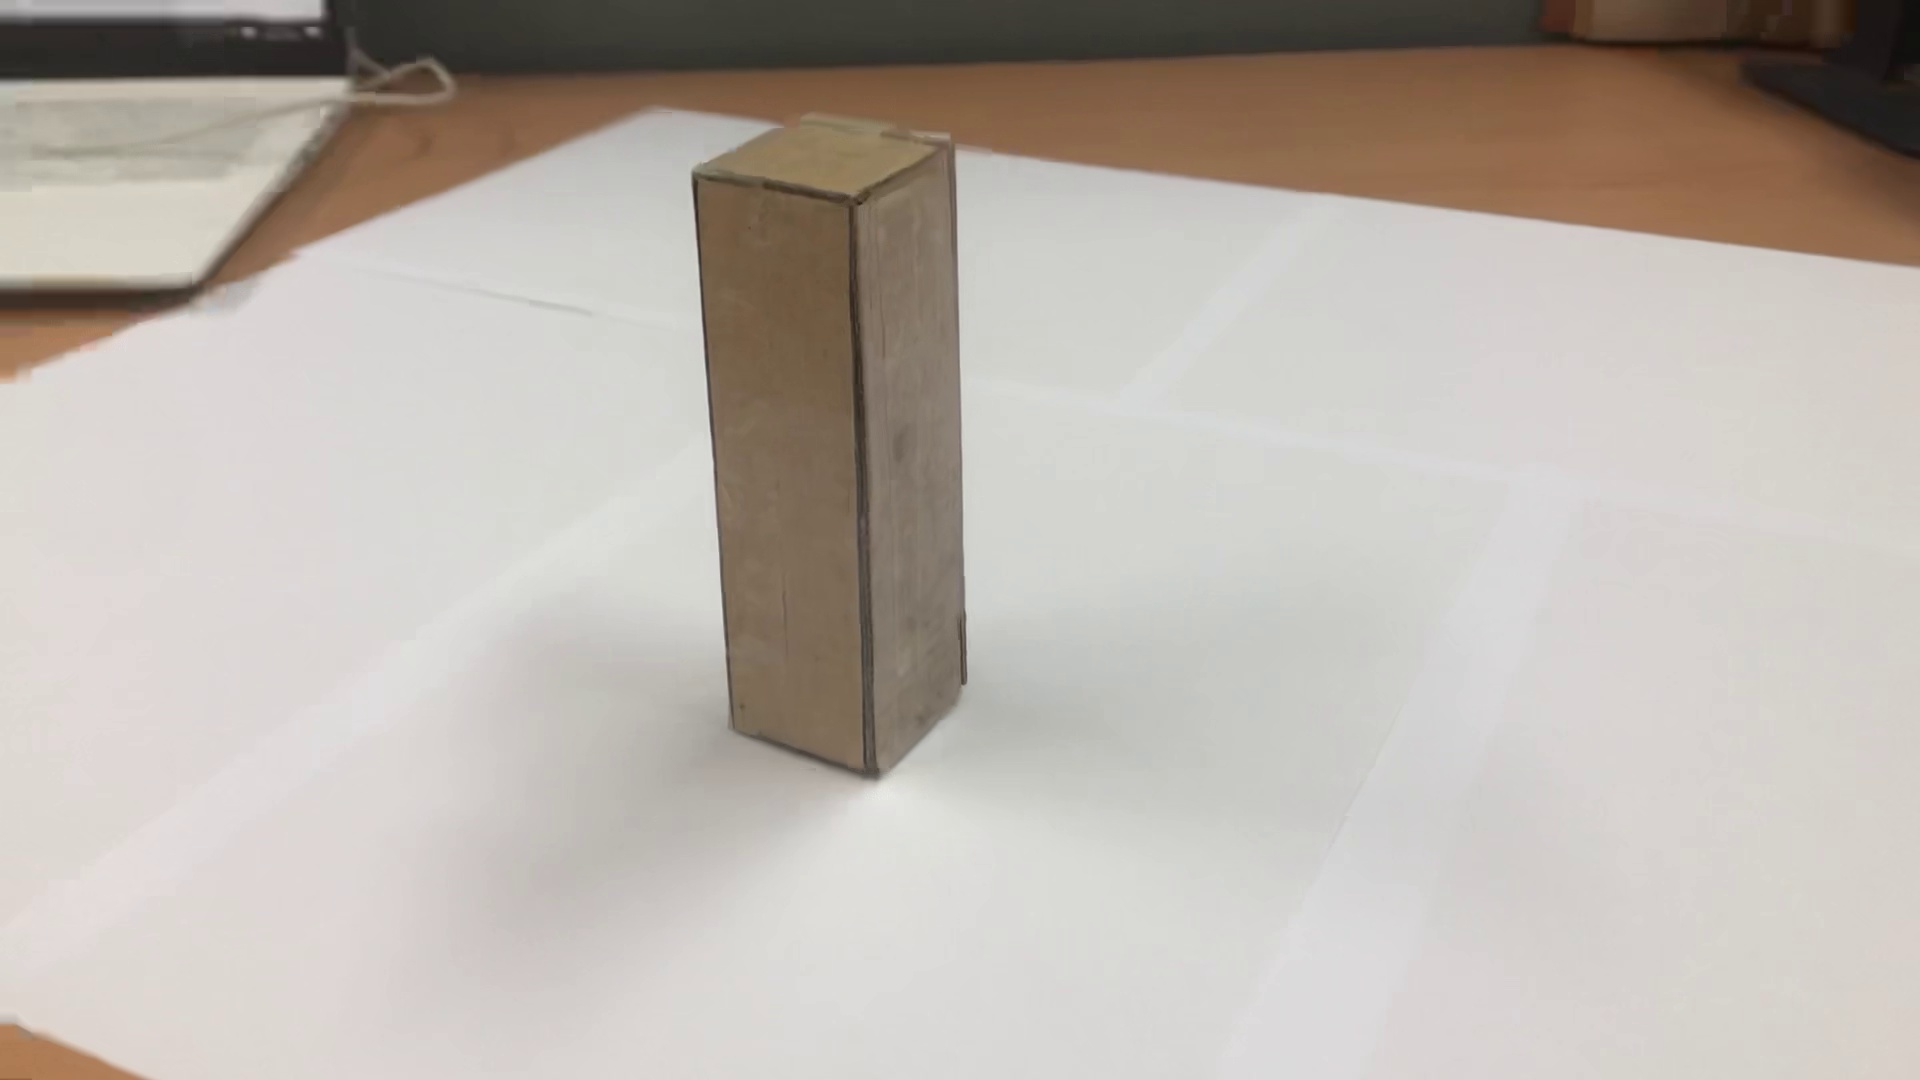box: (676, 113, 984, 785)
